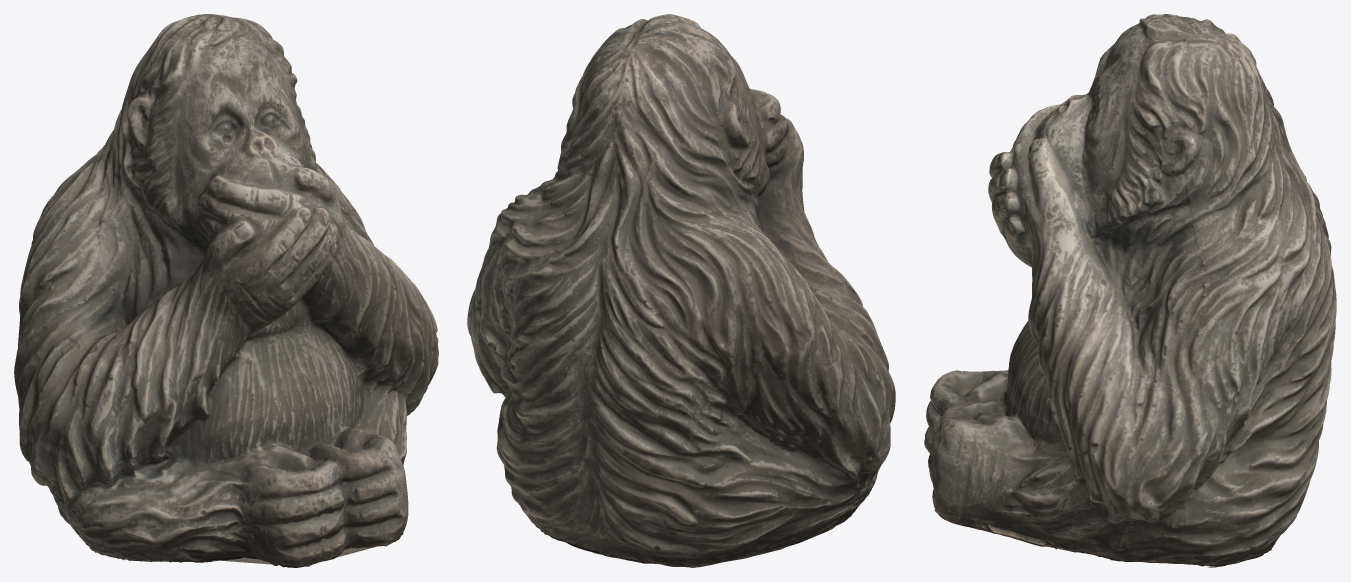
3 renders of one model, left to right at view 1: azimuth 30°, elevation 25°; view 2: azimuth 150°, elevation 25°; view 3: azimuth 270°, elevation 25°, orthographic. The views are drawn at different scales.
Parts seen in each view (by area): view 1: Model; view 2: Model; view 3: Model.
Boxes of the visible parts, x1,y1,x2,y2 form: Model: [14, 14, 438, 567]; Model: [467, 14, 895, 567]; Model: [924, 14, 1336, 567].
Size of the model in its own units: 3.61 by 4.28 by 3.18.
1 material, 1 textured.
